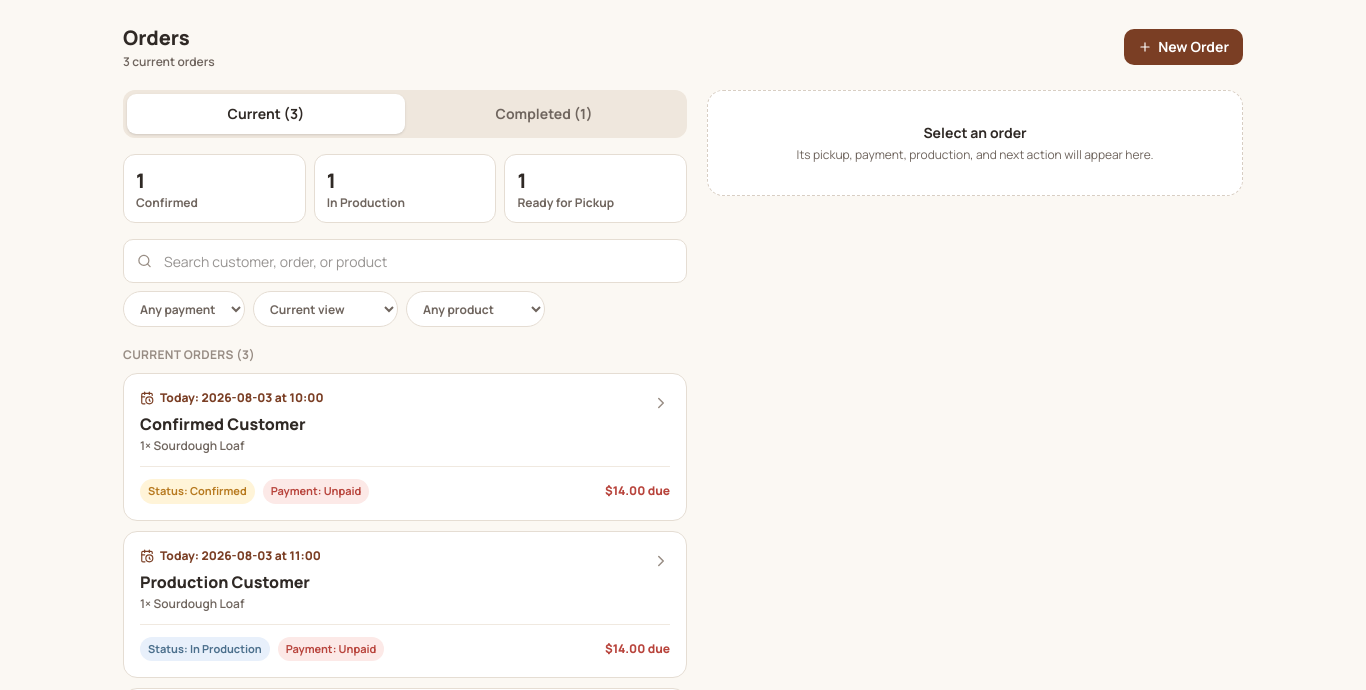
Test: OrdersScreen workflow queue › shows completed orders only in the Completed view
What coordinates should you click on to do the following:
click the tab "Completed (1)"
I would click on:
 (544, 114)
Its box is [405, 94, 683, 134].
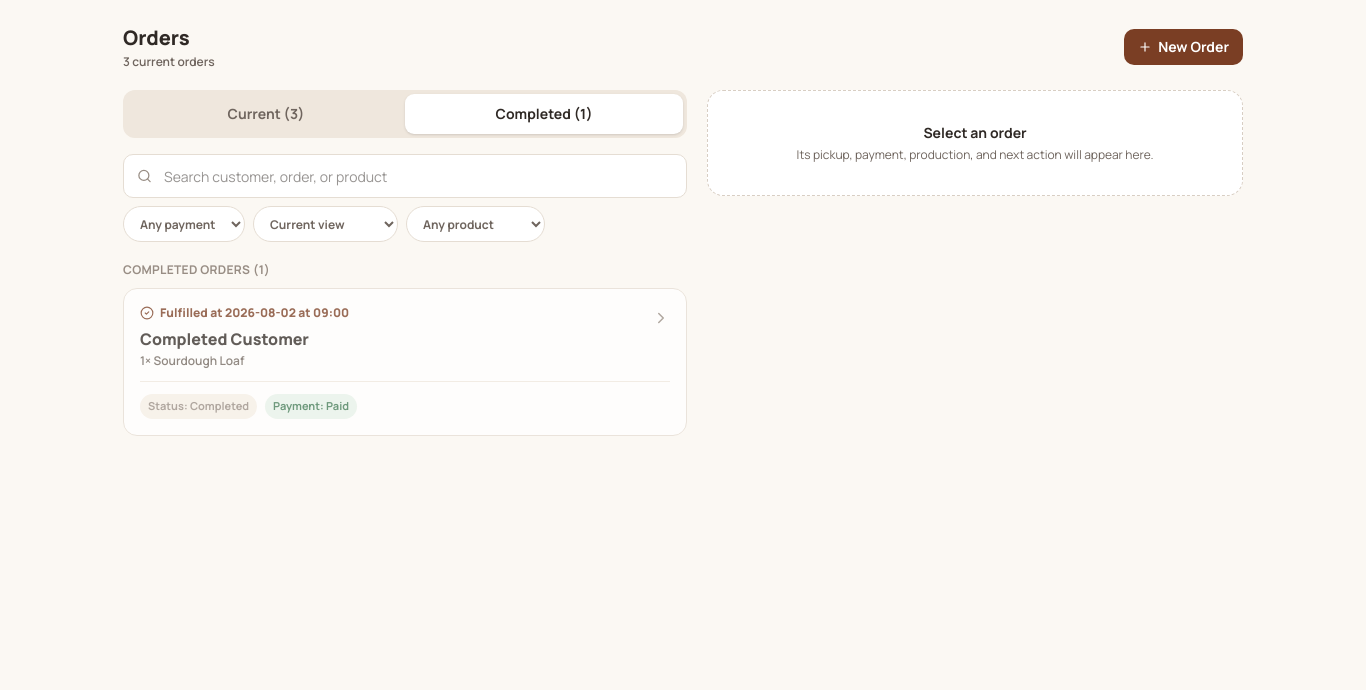
Now the button with aria-label "Open order order-completed" is shown, box [124, 289, 686, 434]
